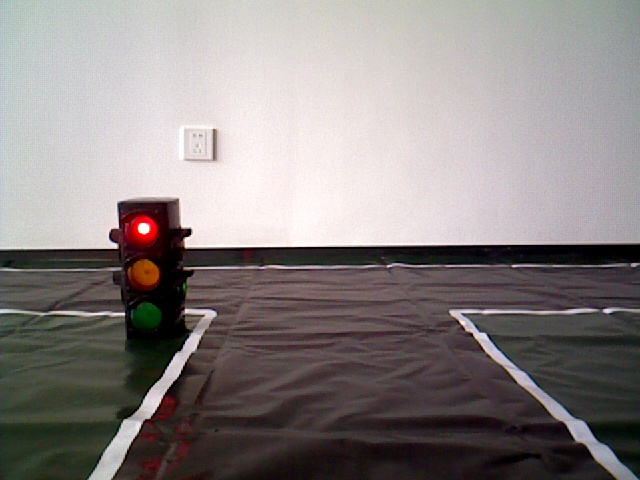red: (118, 204, 180, 339)
